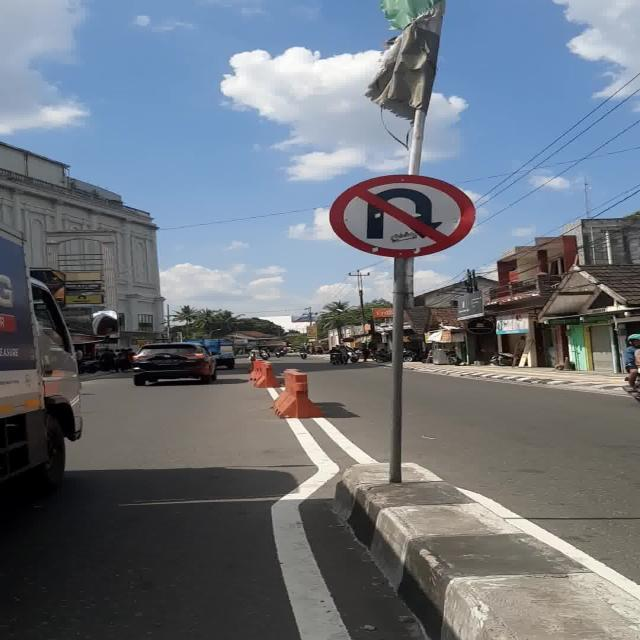Dilarang Putar Balik: (329, 174, 476, 258)
